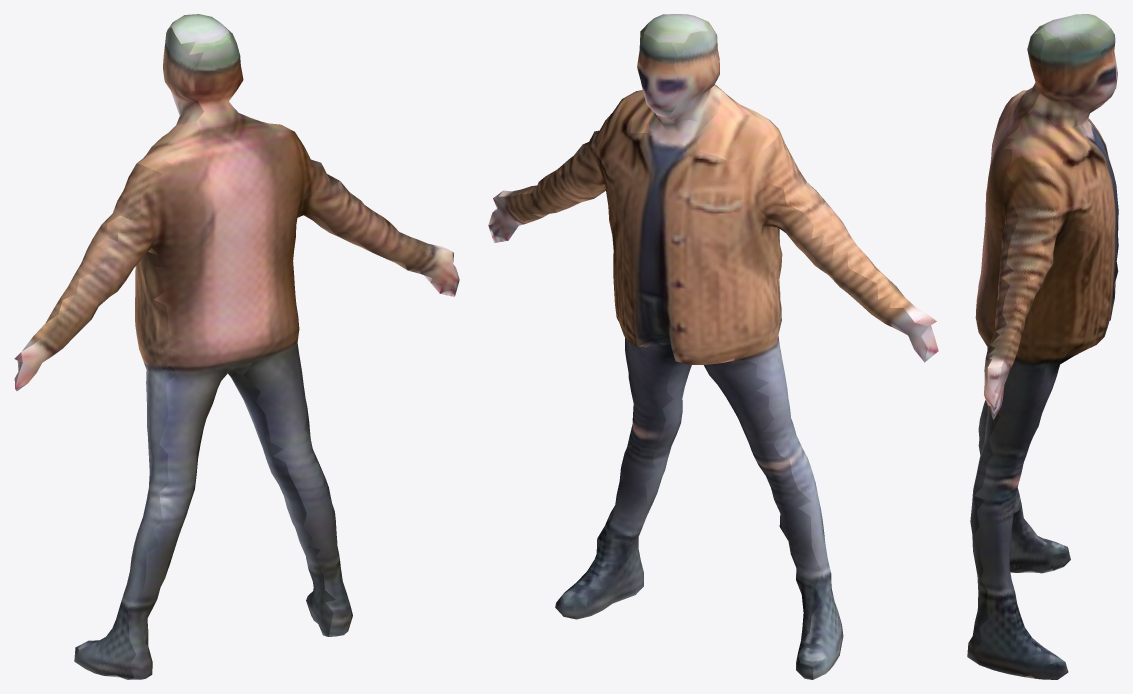
3 renders of one model, left to right at view 1: azimuth 30°, elevation 25°; view 2: azimuth 150°, elevation 25°; view 3: azimuth 270°, elevation 25°, orthographic. The views are drawn at different scales.
Visible parts, largest first — view 1: world; view 2: world; view 3: world.
Boxes of the visible parts, <box> form: world: <box>14,14,459,679</box>; world: <box>488,14,938,679</box>; world: <box>967,14,1118,679</box>.
Size of the model in its own units: 0.7624 by 1.01 by 0.2293.
Materials: 1 (1 with a texture image).
